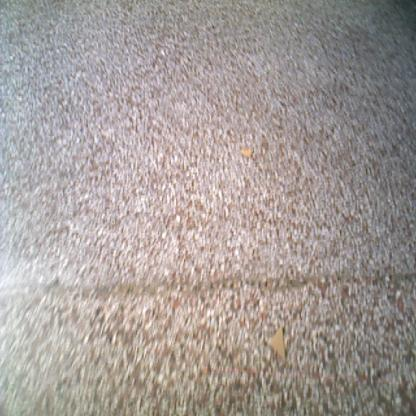dirty: (264, 324, 288, 366), (236, 146, 254, 160)
